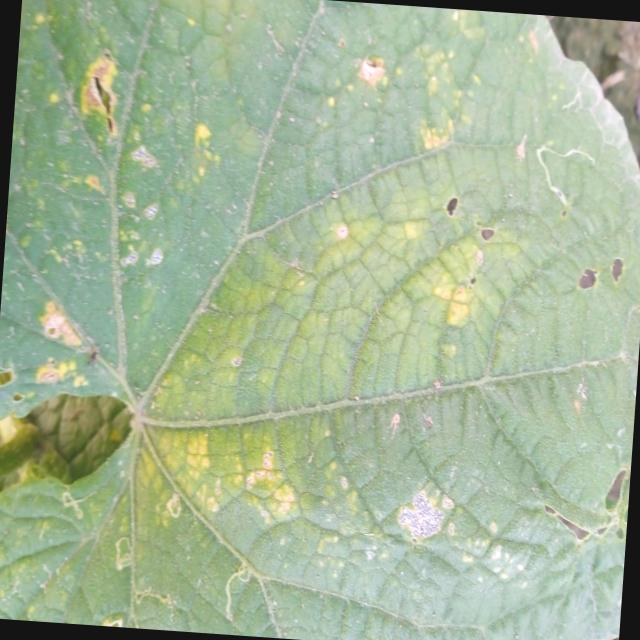cucumber_downy: (2, 54, 602, 606)
